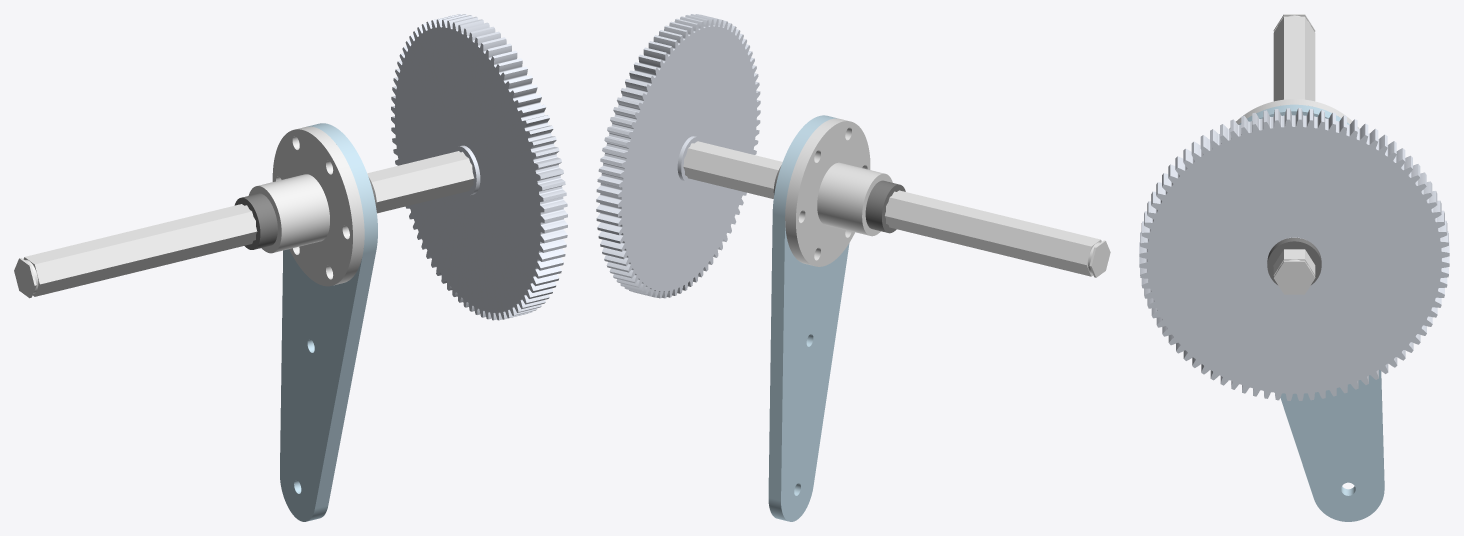
3 renders of one model, left to right at view 1: azimuth 30°, elevation 25°; view 2: azimuth 150°, elevation 25°; view 3: azimuth 270°, elevation 25°, orthographic. The views are drawn at different scales.
Visible parts, largest first — view 1: model_4; view 2: model_4; view 3: model_4.
Part boxes in pixels (bbox=[...]): model_4: bbox=[14, 14, 567, 521]; model_4: bbox=[596, 14, 1110, 521]; model_4: bbox=[1139, 14, 1449, 521].
Bounding box in the file's own units: 0.2061 × 0.1854 × 0.1092.
